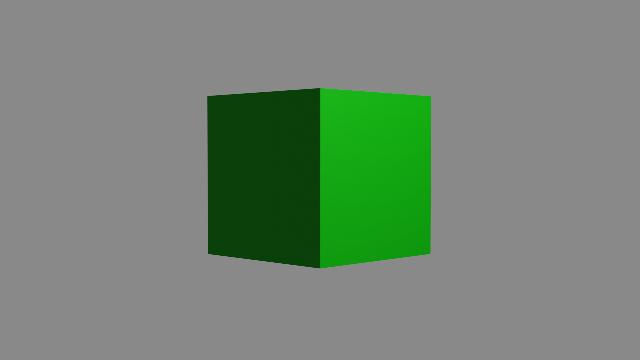Cube: (202, 81, 446, 275)
